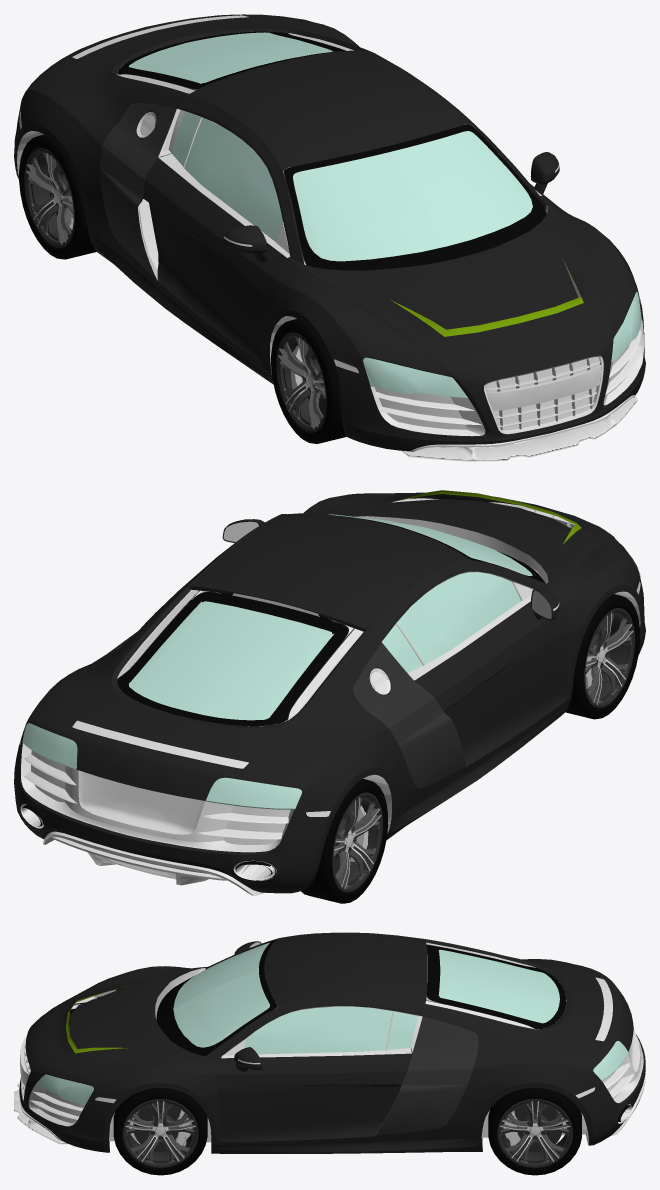
Rendered from Supercar 6.fbx.
3 renders of one model, top to bottom at view 1: azimuth 30°, elevation 25°; view 2: azimuth 150°, elevation 25°; view 3: azimuth 270°, elevation 25°, orthographic. The views are drawn at different scales.
Parts seen in each view (by area): view 1: Body, Glass 2, Body part 2, Interior, Wheel 2, Wheel 3, grills, Body part 1, Glass 1; view 2: Body, Body part 2, Glass 2, Wheel 3, Wheel 2, Interior, grills, Glass 1, Body part 1, Interior part 1, Mirrors; view 3: Body, Glass 2, Body part 2, Wheel 4, Wheel 1, Interior, grills, Glass 1, Interior part 1, Body part 1, Brakes.
Part boxes in pixels (box(x1,y1,x2,y2)): Body: box(14, 14, 645, 451); Glass 2: box(129, 32, 532, 261); Body part 2: box(100, 31, 643, 451); Interior: box(117, 31, 546, 270); Wheel 2: box(271, 318, 346, 443); Wheel 3: box(19, 134, 96, 259); grills: box(72, 15, 630, 429); Body part 1: box(400, 396, 637, 461); Glass 1: box(26, 90, 641, 397); Body: box(14, 490, 645, 893); Body part 2: box(21, 498, 574, 895); Glass 2: box(129, 514, 532, 720); Wheel 3: box(301, 778, 387, 903); Wheel 2: box(565, 594, 639, 719); Interior: box(117, 515, 545, 726); grills: box(31, 589, 363, 876); Glass 1: box(22, 562, 640, 809); Body part 1: box(20, 804, 276, 880); Interior part 1: box(22, 591, 640, 875); Mirrors: box(223, 521, 559, 618); Body: box(19, 932, 645, 1153); Glass 2: box(173, 943, 559, 1054); Body part 2: box(19, 944, 645, 1140); Wheel 4: box(488, 1088, 581, 1175); Wheel 1: box(113, 1088, 207, 1175); Interior: box(156, 939, 566, 1055); grills: box(39, 942, 621, 1122); Glass 1: box(36, 984, 628, 1104); Interior part 1: box(70, 982, 630, 1150); Body part 1: box(14, 1082, 631, 1144); Brakes: box(176, 1110, 520, 1149).
Size of the model in its own units: 3.14 by 1.98 by 6.97.
